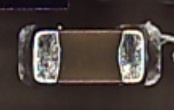COMP: (11, 14, 168, 95)
STAN: (155, 27, 174, 47), (54, 22, 64, 32)
